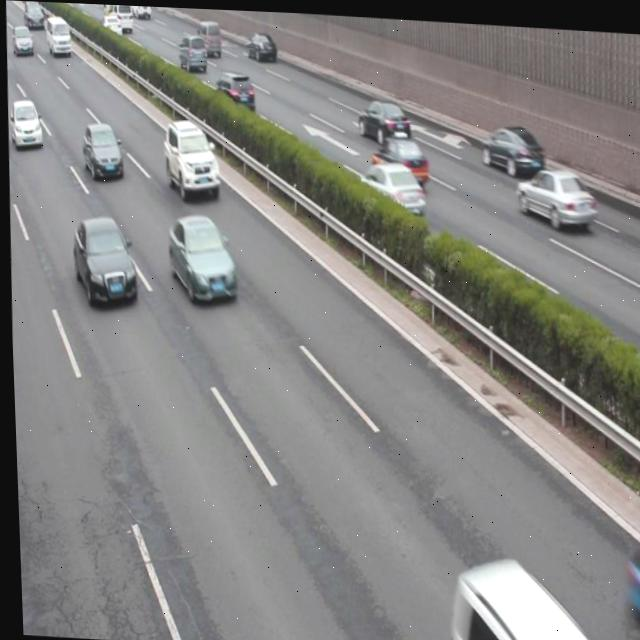car: (445, 557, 628, 640), (164, 214, 236, 305), (71, 214, 135, 308), (513, 162, 593, 225), (161, 116, 220, 195), (356, 158, 424, 215), (478, 120, 542, 170), (370, 128, 428, 181), (356, 96, 409, 142), (81, 122, 122, 180), (9, 99, 43, 149), (214, 68, 255, 109), (177, 32, 206, 74), (246, 28, 275, 59), (12, 25, 33, 54), (101, 15, 122, 38)
truck: (44, 16, 72, 58), (194, 20, 221, 54)
